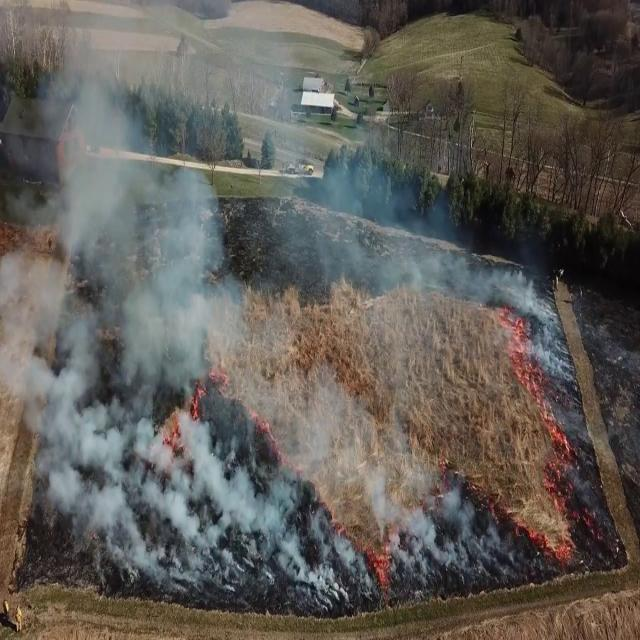Smoke: (1, 22, 495, 596)
